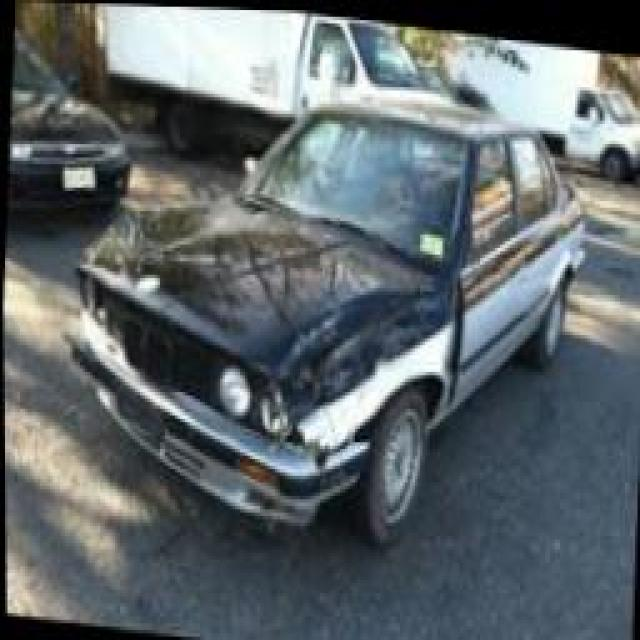Bonnet: (73, 200, 196, 278)
Door: (440, 268, 476, 401)
Fender: (254, 255, 450, 470)
